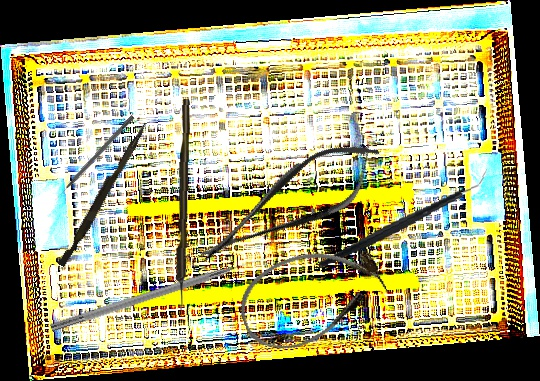Cannula: (228, 229, 395, 363)
Chopper: (309, 169, 497, 269)
Hook Surgical: (49, 253, 266, 335), (52, 114, 136, 202), (174, 98, 192, 312)
Micro Scissor: (184, 123, 395, 283)
Pusher: (57, 118, 149, 270)
